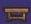workbench: (0, 1, 31, 24)
